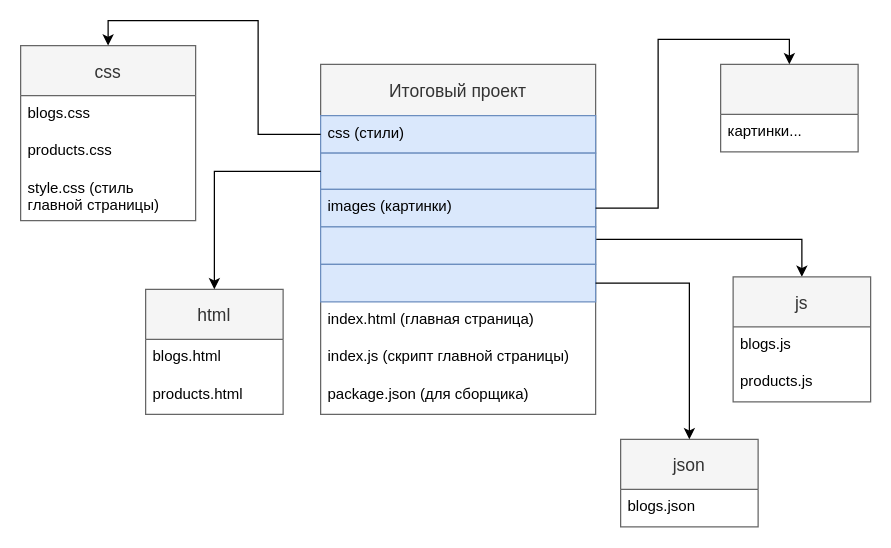
The diagram is 891 pixels wide and 548 high, and some of its shapes have lost their labels. Here are the shapes that lost their labels. From the top down, the box of each, then its label:
(719, 63, 858, 152): images
(319, 152, 596, 189): html (html-страницы)
(319, 226, 596, 264): js (javaScript-файлы)
(319, 263, 596, 302): json (json-файлы)
